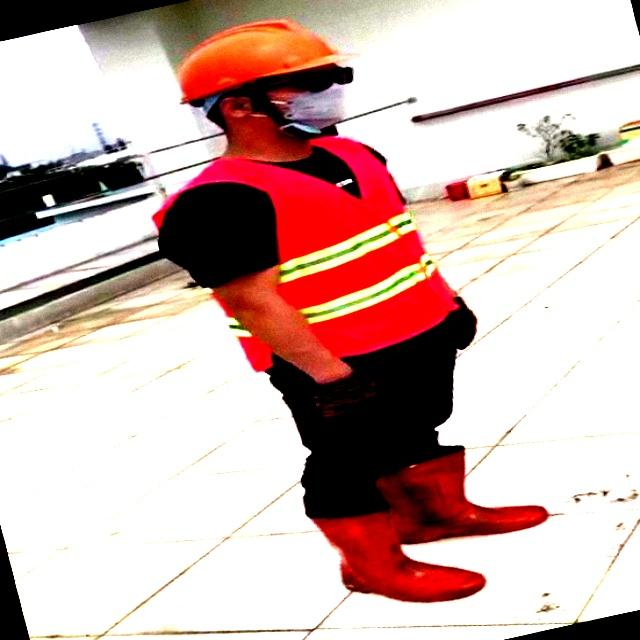Capacete: (177, 19, 351, 103)
Colete: (153, 137, 457, 356)
Oculos: (268, 67, 352, 92)
